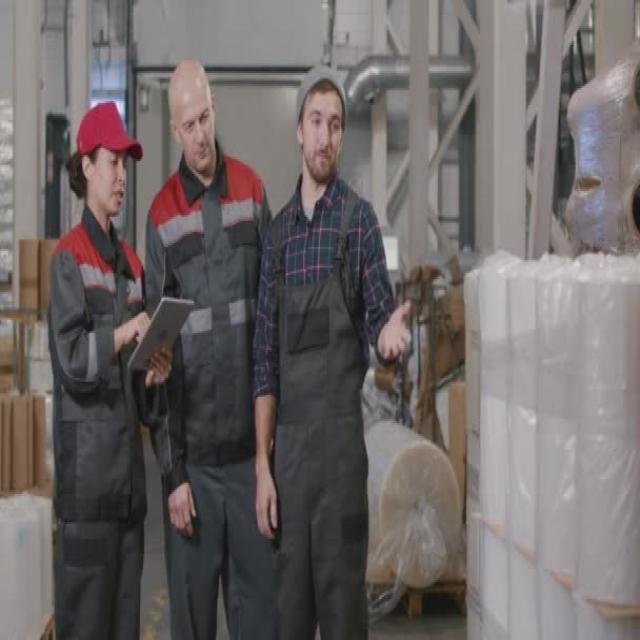bare_hand: (371, 294, 418, 367), (250, 469, 282, 545), (164, 479, 200, 540), (120, 305, 154, 351), (147, 346, 178, 386)
